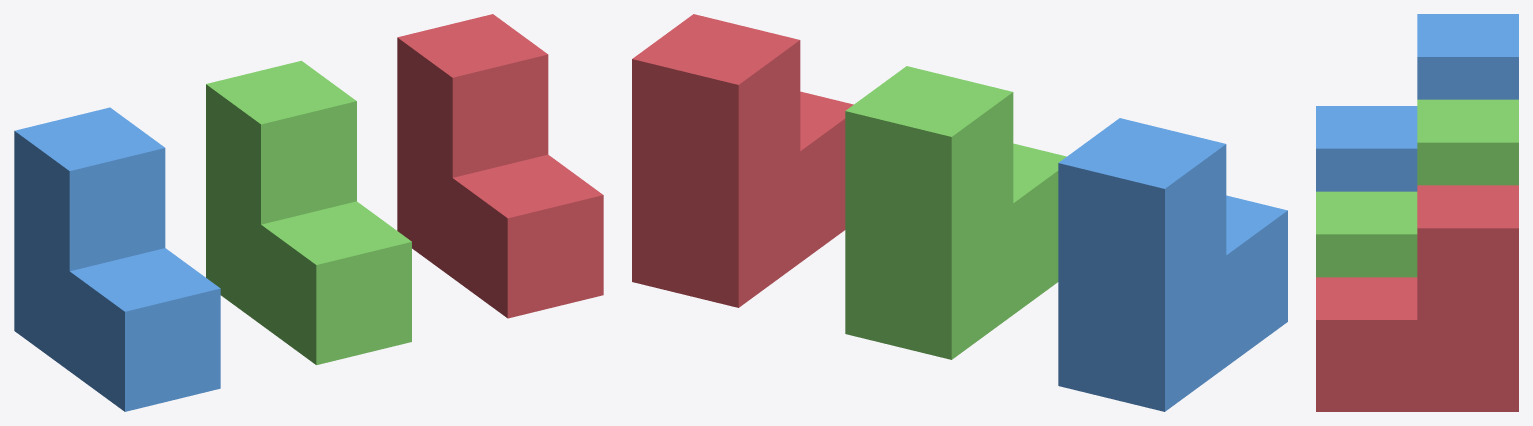
3 renders of one model, left to right at view 1: azimuth 30°, elevation 25°; view 2: azimuth 150°, elevation 25°; view 3: azimuth 270°, elevation 25°, orthographic. The views are drawn at different scales.
Visible parts, largest first — view 1: Plane, Cube, Cube.003; view 2: Plane, Cube.003, Cube; view 3: Cube, Cube.003, Plane.
Boxes of the visible parts, <box> form: Plane: <box>14,107,220,411</box>; Cube: <box>397,14,603,318</box>; Cube.003: <box>206,60,411,365</box>; Plane: <box>1058,118,1287,411</box>; Cube.003: <box>845,66,1066,359</box>; Cube: <box>632,14,853,307</box>; Cube: <box>1316,185,1518,411</box>; Cube.003: <box>1316,99,1518,277</box>; Plane: <box>1316,14,1518,191</box>.
Size of what is drawn, in the model's own units: 10 by 4 by 4.
